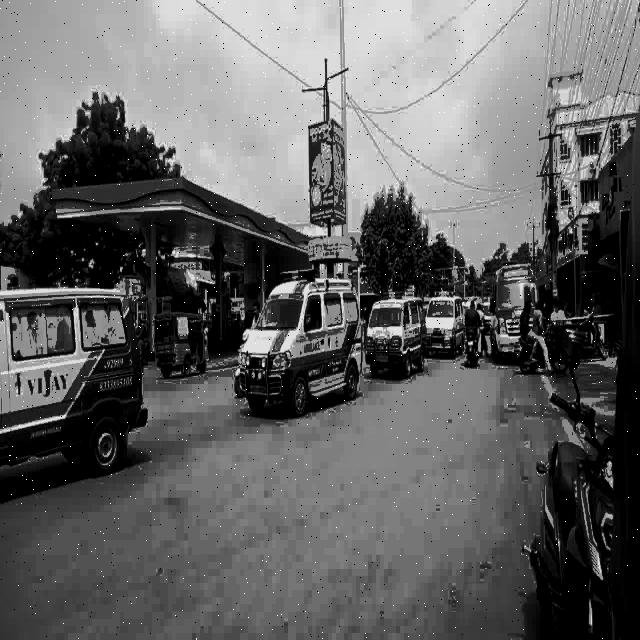Ambulance: (3, 256, 145, 502), (232, 252, 361, 434), (496, 250, 543, 370), (368, 292, 422, 381), (431, 292, 463, 365)
